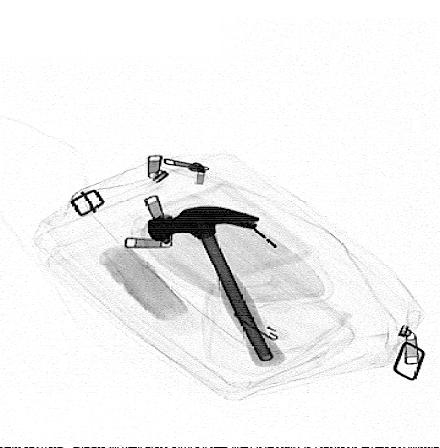Hammer: (147, 205, 285, 369)
